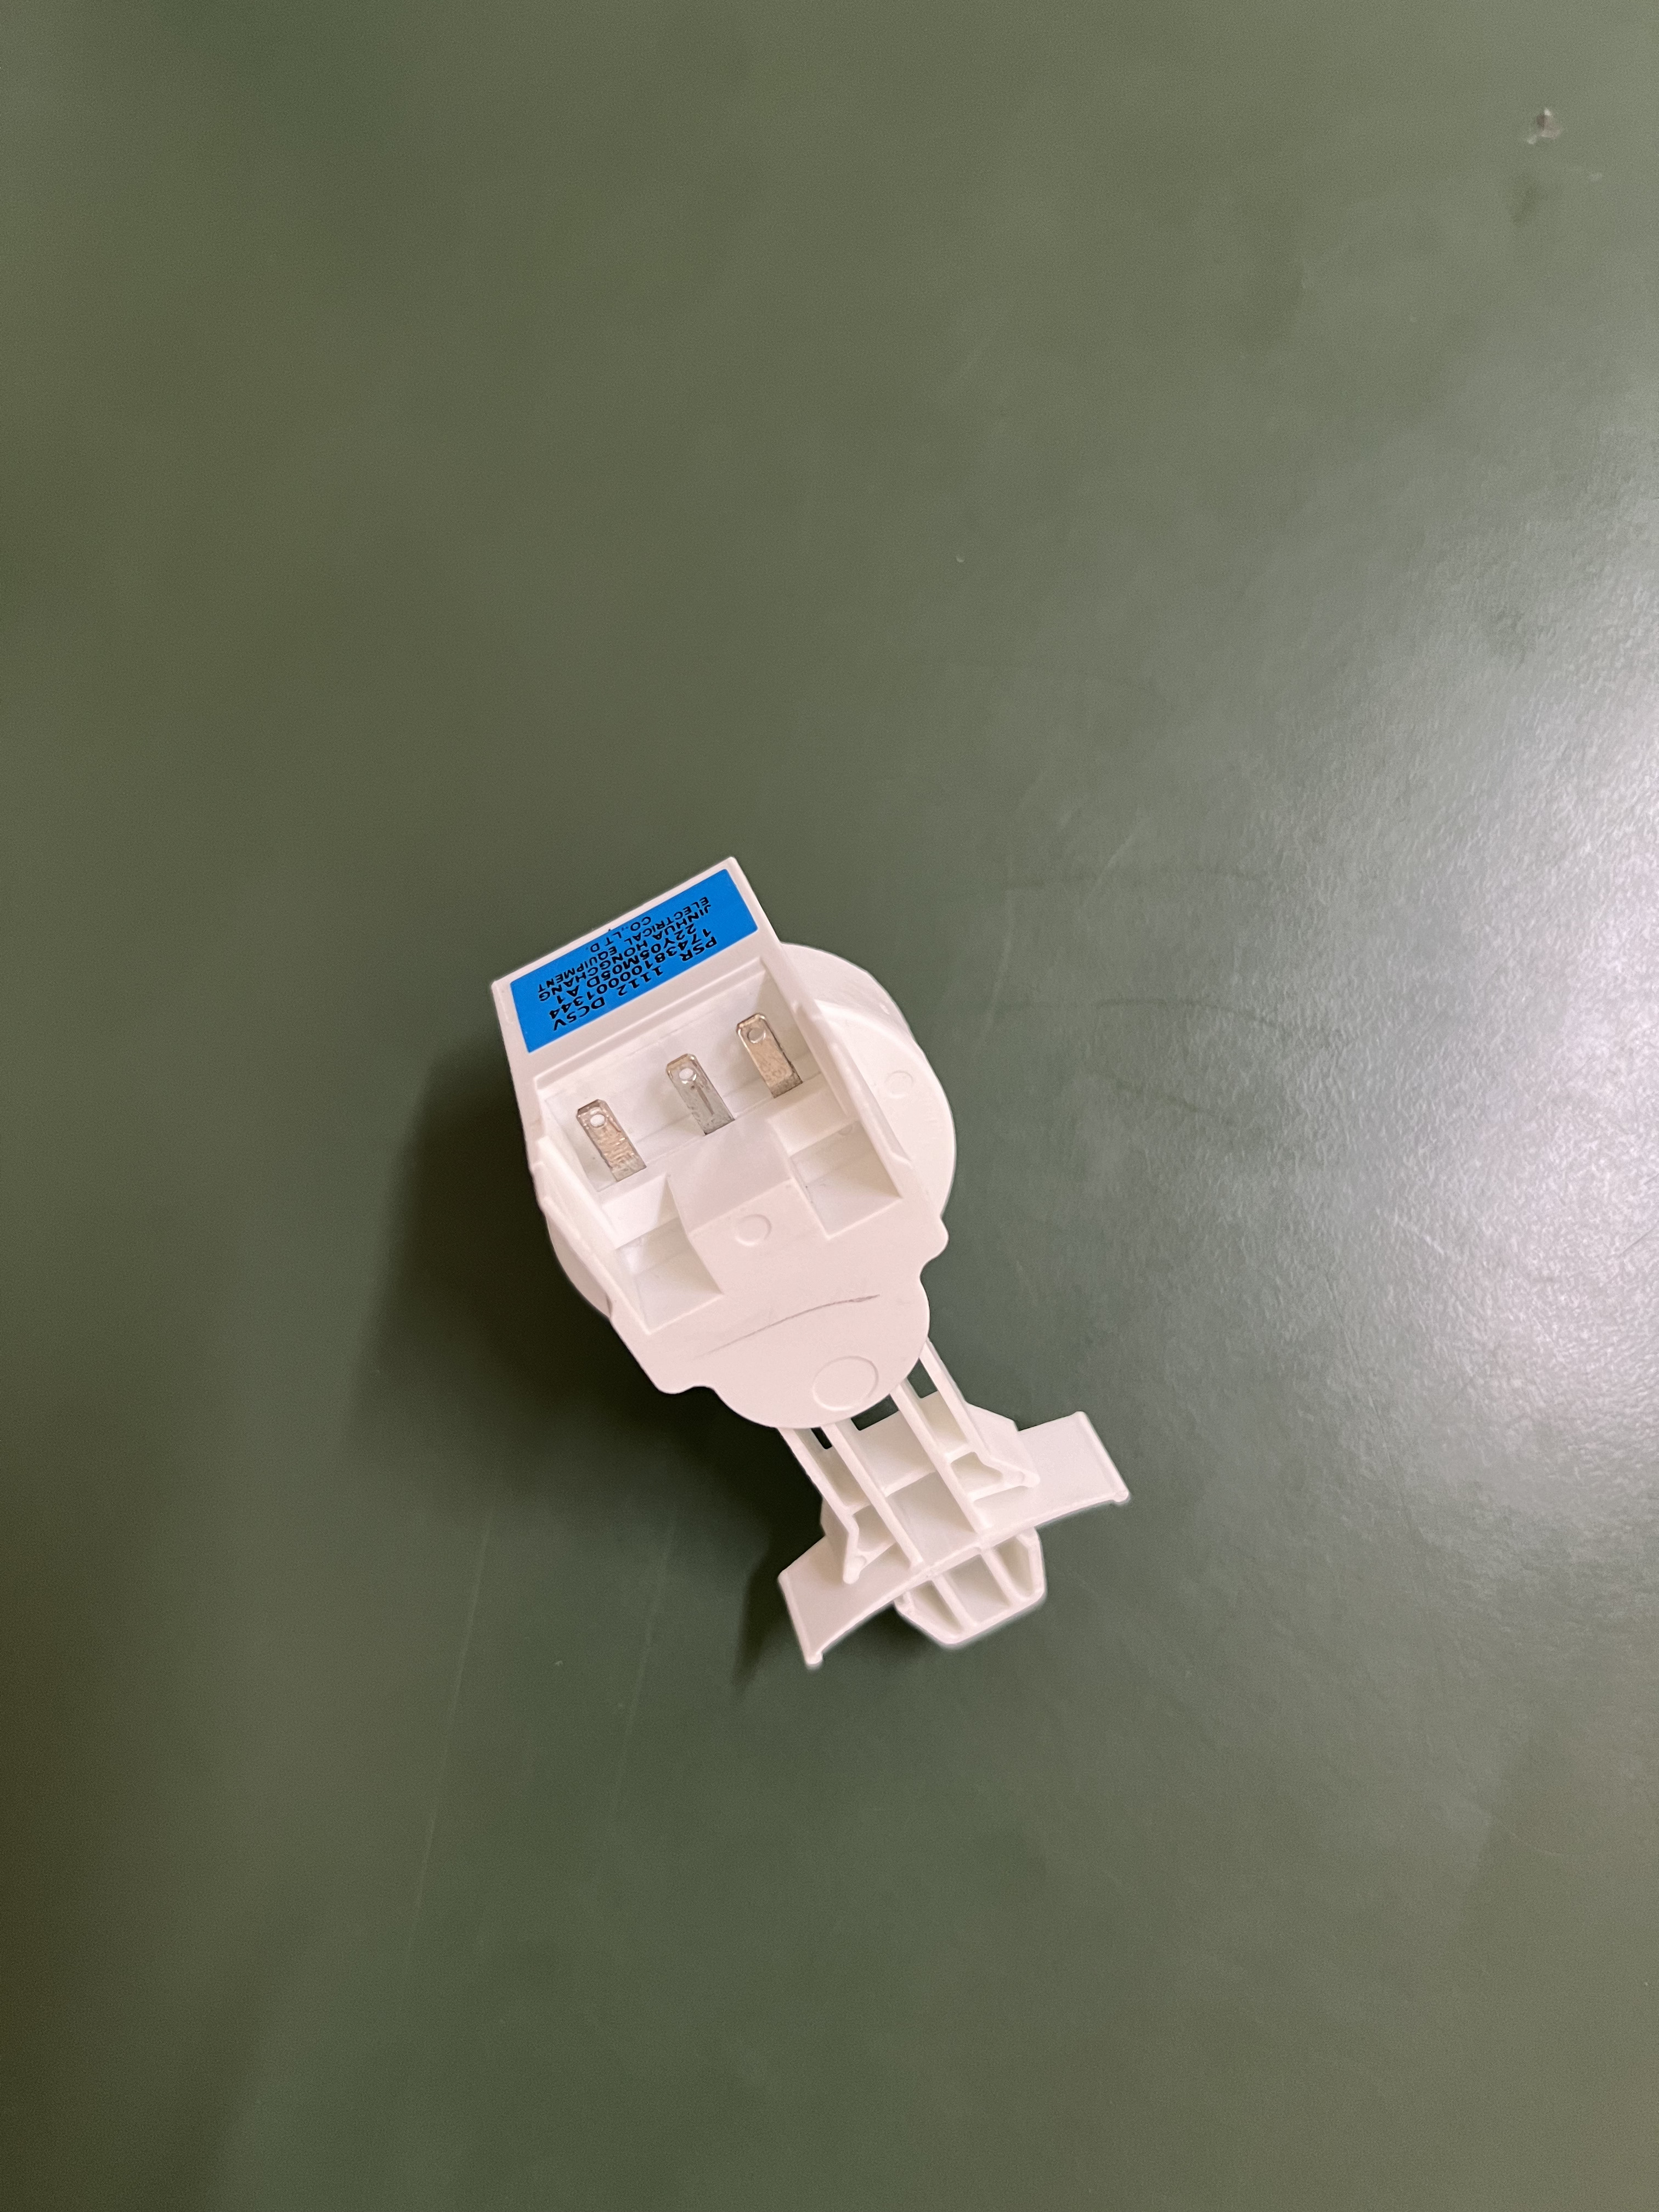pressure_switch_1: (465, 871, 1164, 1688)
